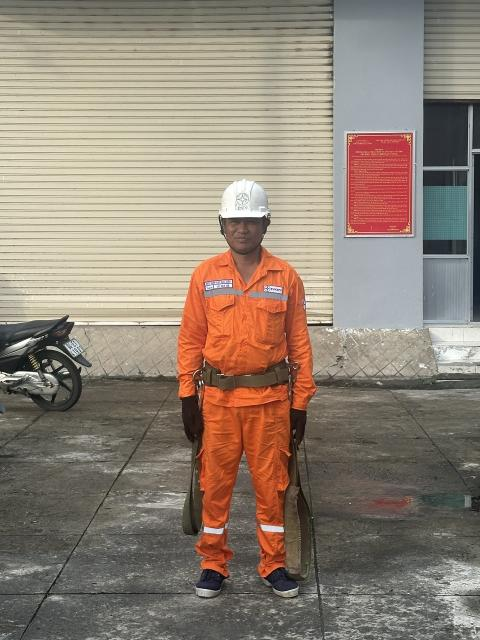gloves: (170, 391, 215, 449), (282, 403, 321, 447)
harness: (168, 358, 300, 388)
helmet: (194, 171, 283, 222)
shoes: (251, 559, 311, 605), (184, 563, 237, 597)
